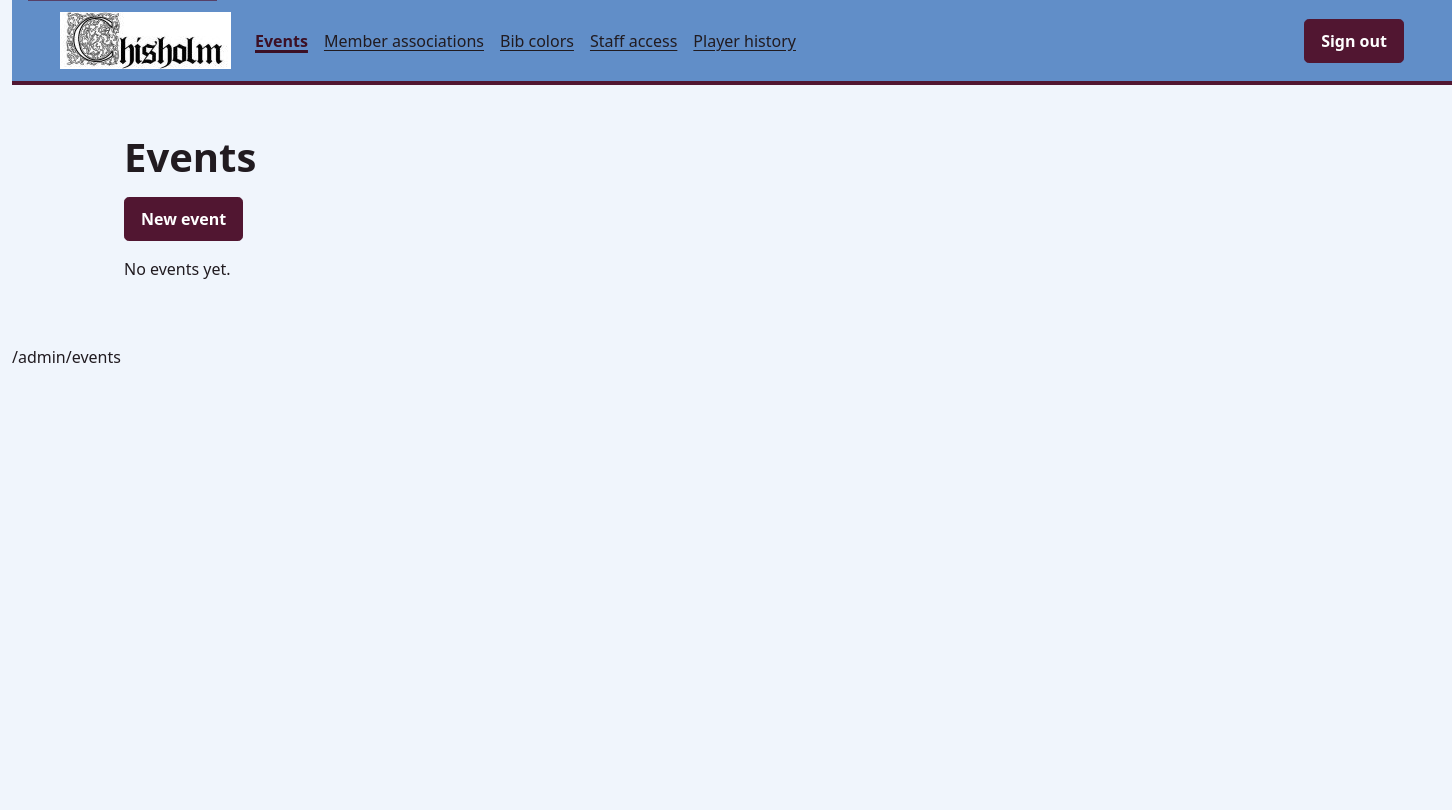
it: App route boundaries › uses router navigation for internal admin links and sets a contextual title
The width and height of the screenshot is (1452, 810).
Expected: the navigation bar named "Administration" is shown, x1=255 y1=30 x2=796 y2=52
Expected: the button "Sign out" is shown, x1=1304 y1=18 x2=1404 y2=62
Click the link "New event": (184, 219) x1=124 y1=197 x2=243 y2=241
(page scrolled)
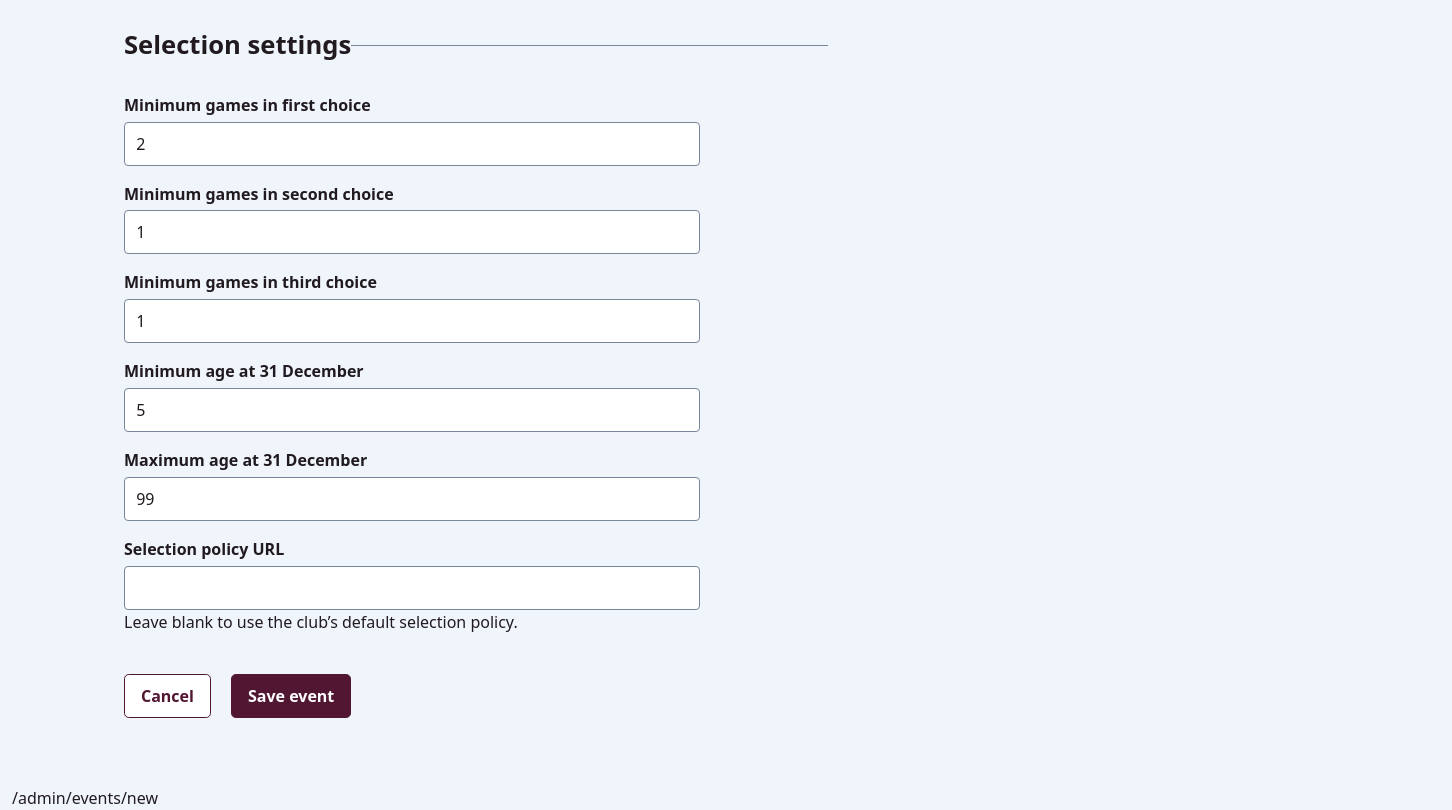
Result: the text named "Current path" reads "/admin/events/new" at x1=12 y1=787 x2=158 y2=809
